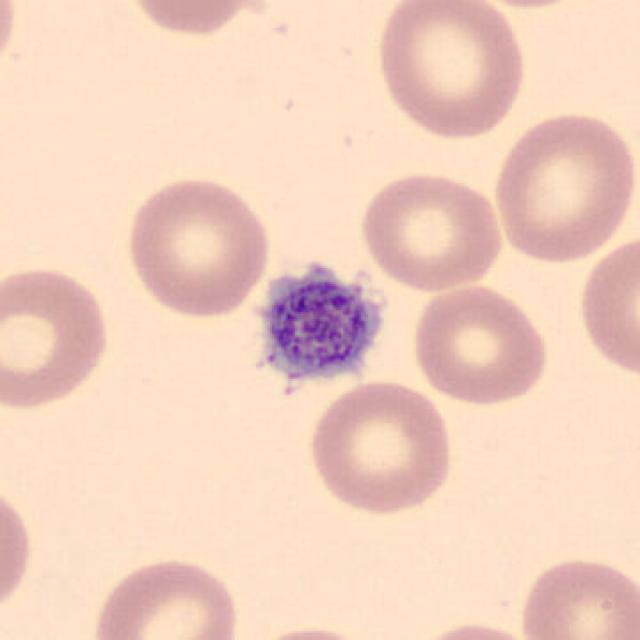Platelets: (243, 254, 394, 400)
RBC: (487, 106, 638, 266), (121, 171, 275, 321), (372, 0, 530, 143), (304, 376, 457, 518), (407, 280, 553, 409), (356, 168, 506, 292), (0, 261, 116, 414), (87, 552, 244, 640), (516, 552, 638, 640), (574, 231, 640, 384), (121, 0, 272, 39), (0, 474, 36, 624), (402, 617, 544, 640), (231, 622, 388, 640), (0, 0, 23, 88), (455, 0, 599, 12)
